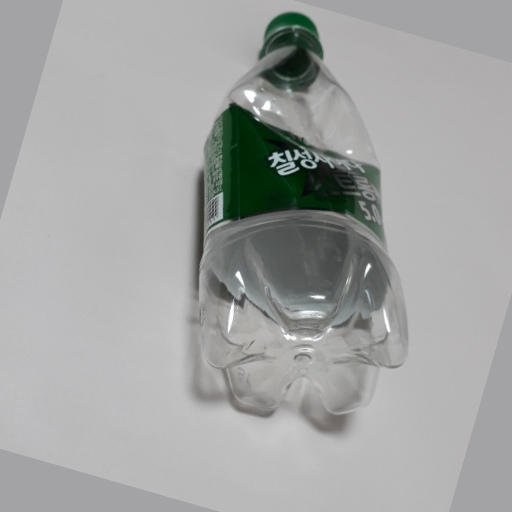Plastic_0: (195, 11, 410, 421)
